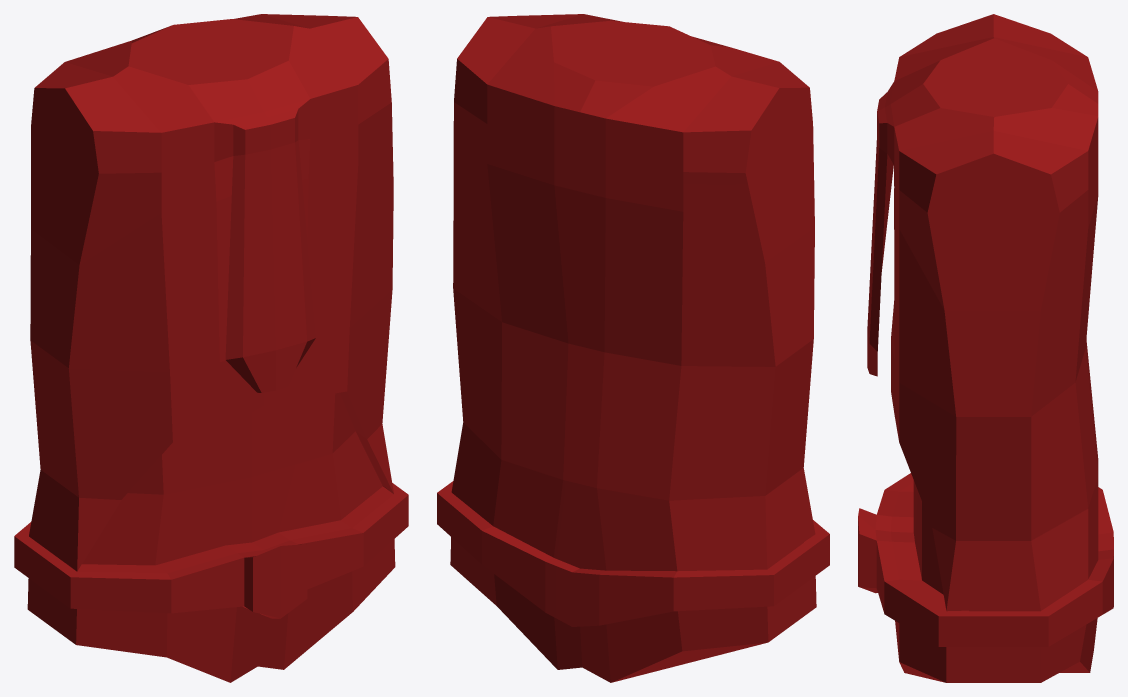
The model's file is Torso.fbx.
3 renders of one model, left to right at view 1: azimuth 30°, elevation 25°; view 2: azimuth 150°, elevation 25°; view 3: azimuth 270°, elevation 25°, orthographic. The views are drawn at different scales.
Visible parts, largest first — view 1: Torso; view 2: Torso; view 3: Torso.
Part boxes in pixels (left/top/right/bottom): Torso: left=14, top=14, right=408, bottom=682; Torso: left=437, top=14, right=829, bottom=682; Torso: left=858, top=14, right=1113, bottom=682.
Bounding box in the file's own units: 58.59 × 98.75 × 39.29.
